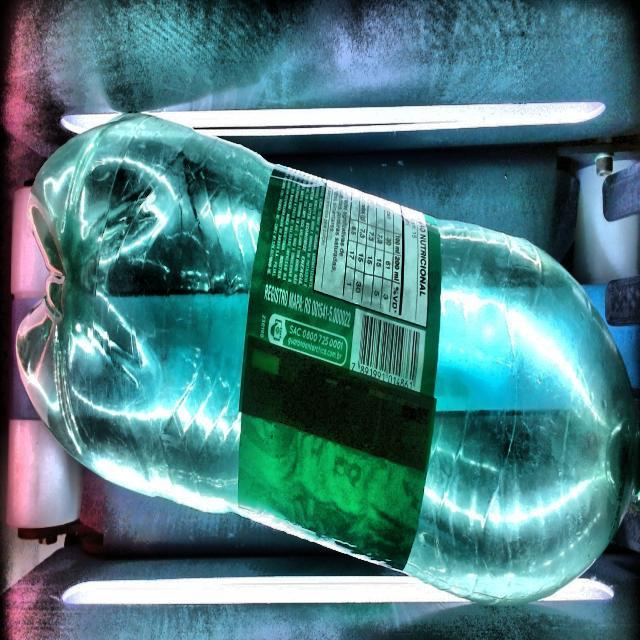bottom: (16, 115, 272, 512)
code: (350, 309, 425, 391)
label: (238, 167, 441, 569)
neck: (406, 220, 640, 602)
